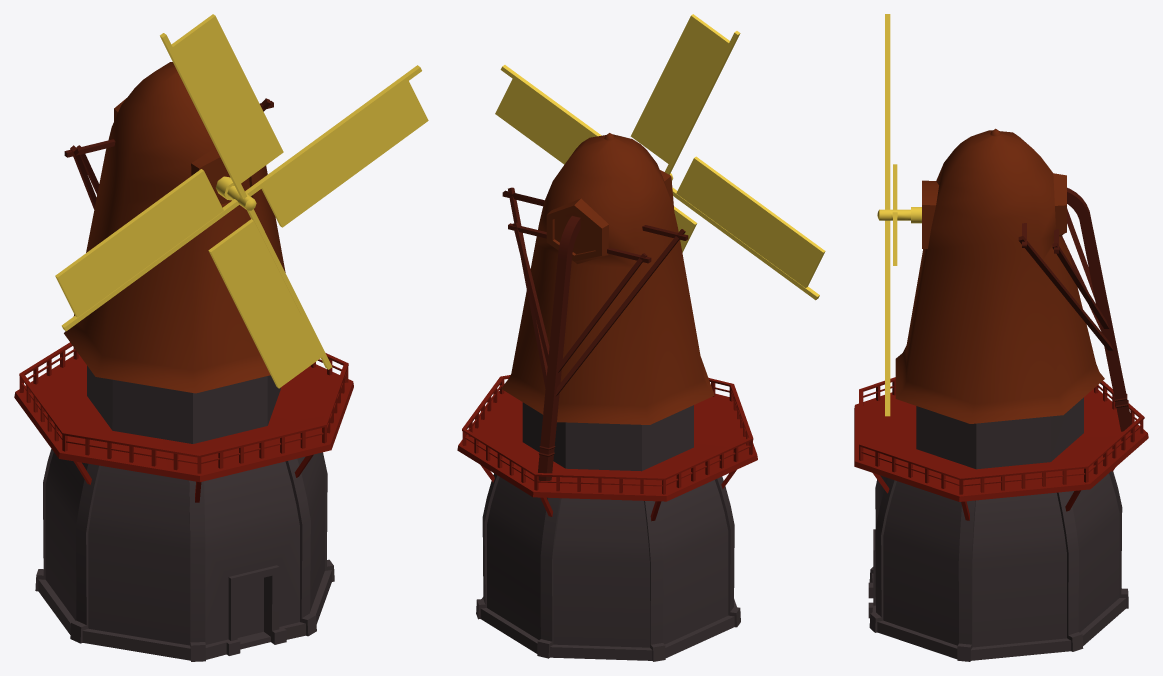
File: mill.FBX
3 renders of one model, left to right at view 1: azimuth 30°, elevation 25°; view 2: azimuth 150°, elevation 25°; view 3: azimuth 270°, elevation 25°, orthographic. The views are drawn at different scales.
Visible parts, largest first — view 1: onderstuk, wieken, bovenstuk, loopding, balken; view 2: onderstuk, bovenstuk, wieken, loopding, balken; view 3: onderstuk, bovenstuk, loopding, balken, wieken.
Boxes of the visible parts, x1,y1,x2,y2 form: onderstuk: (35,366,334,661); wieken: (55,14,428,388); bovenstuk: (64,62,285,393); loopding: (14,342,353,502); balken: (64,98,273,209); onderstuk: (476,402,740,661); bovenstuk: (501,133,714,424); wieken: (495,14,825,300); loopding: (457,375,757,521); balken: (502,187,688,480); onderstuk: (868,397,1128,661); bovenstuk: (895,128,1104,423); loopding: (854,377,1148,520); balken: (1018,187,1131,431); wieken: (877,14,921,416).
Bounding box in the file's own units: 18.87 × 30.82 × 14.63.
